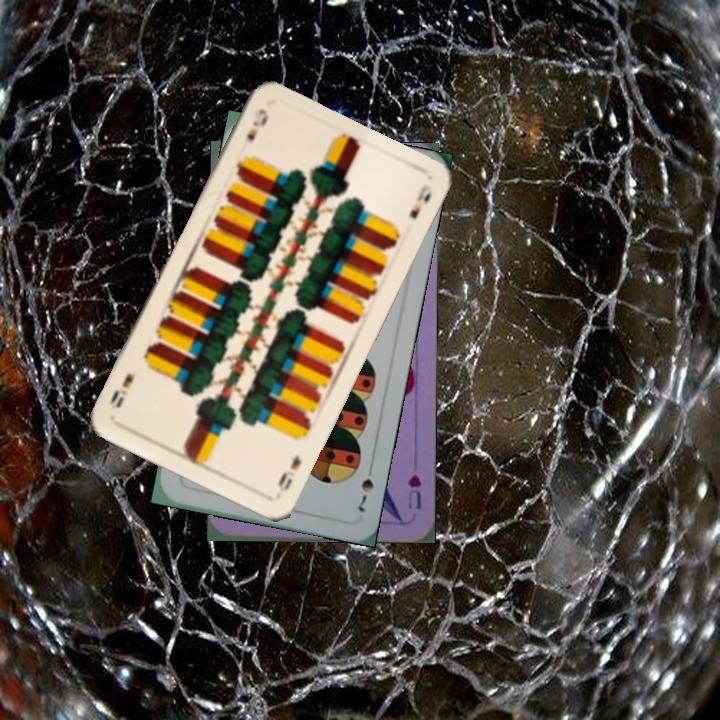E9: (274, 451, 304, 494), (242, 104, 271, 144)
HU: (404, 470, 424, 511)
S7: (353, 459, 376, 515)
